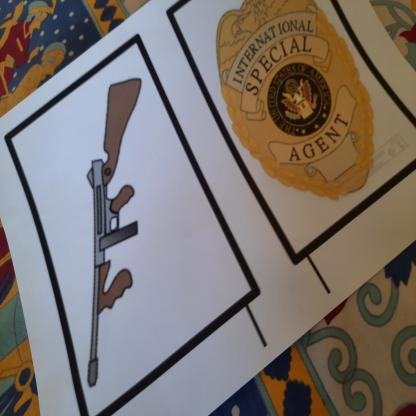Bootlegger: (54, 72, 164, 416)
G-man: (214, 1, 380, 230)
